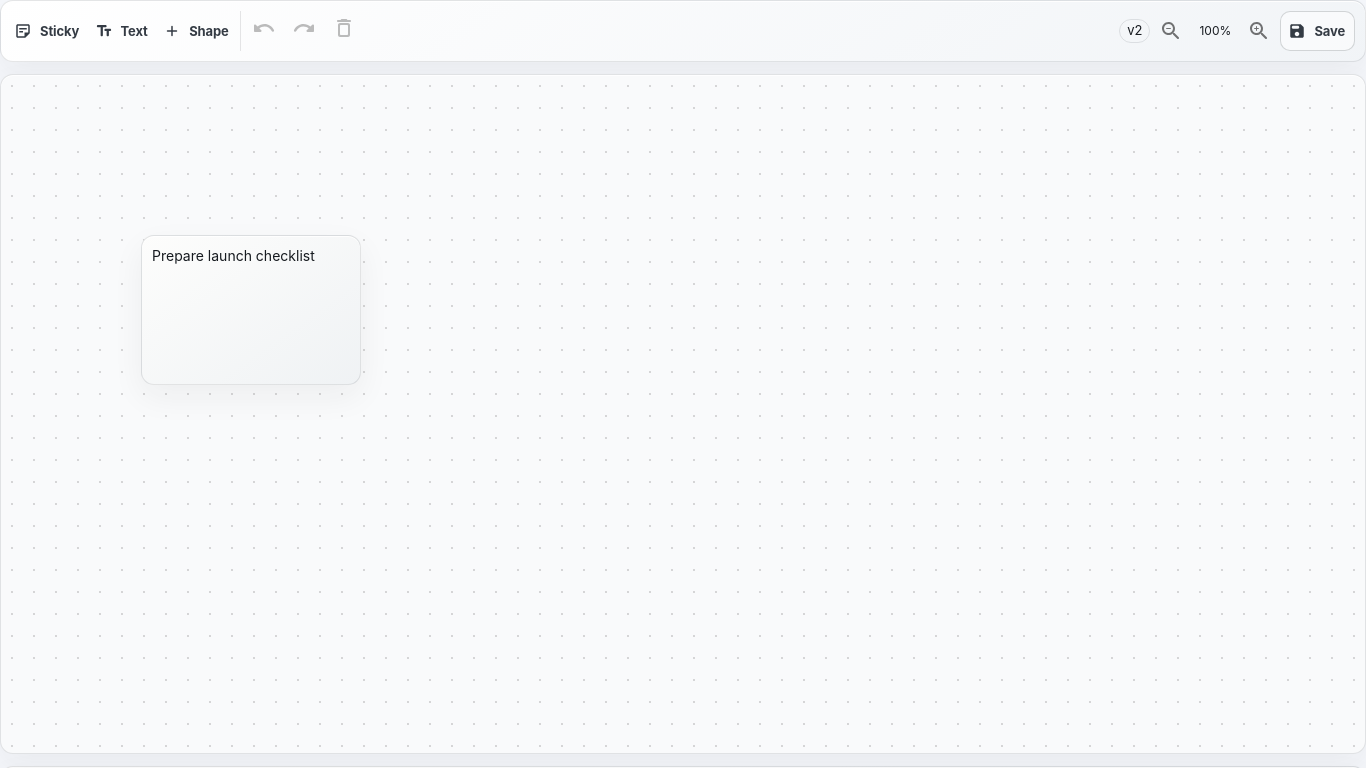
WhiteboardEditor › autosaves a newly added sticky against the current board version
Click the button "Sticky". click: (48, 31)
box: [11,11,84,51]
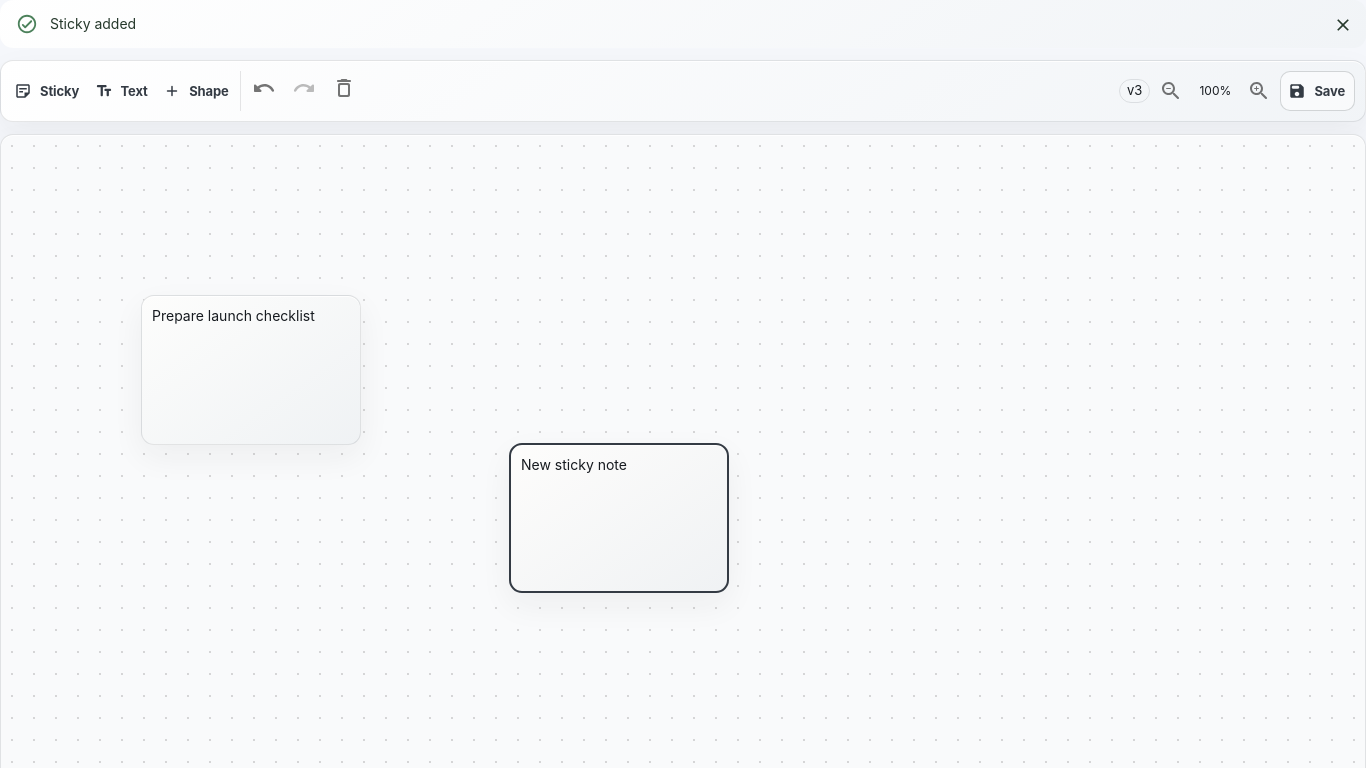
Now the text "Sticky added" is shown, box [50,15,136,32]
Now the text "v3" is shown, box [1127,82,1142,98]
